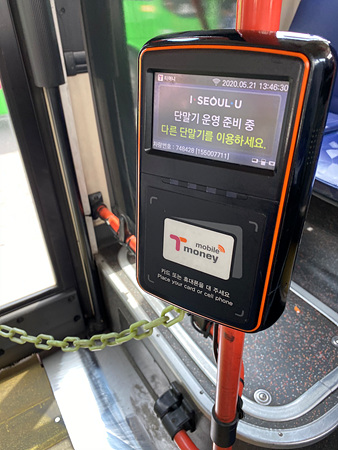terminal: (136, 33, 312, 324)
